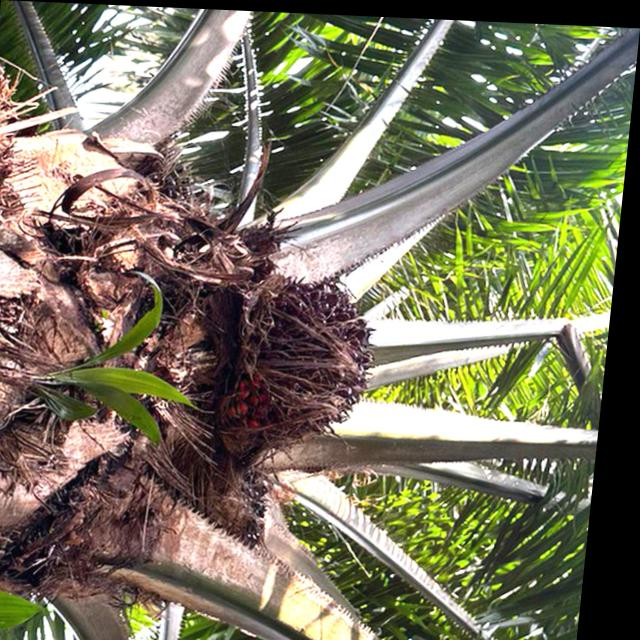almost: (202, 257, 402, 465)
